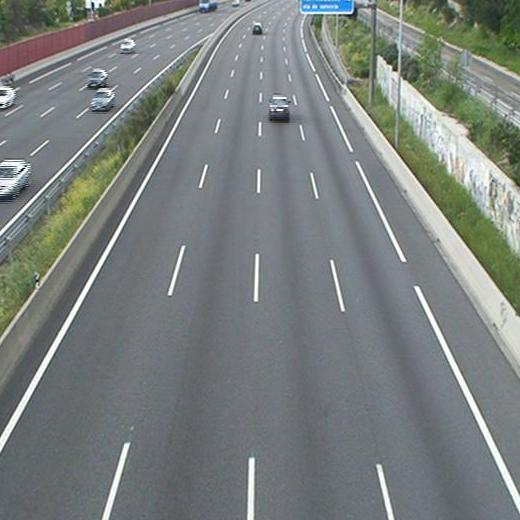car: (268, 95, 291, 123), (252, 22, 263, 35)
